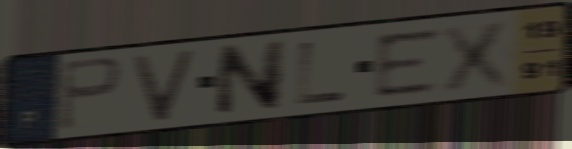E: (372, 25, 443, 101)
L: (292, 38, 351, 108)
N: (212, 37, 290, 120)
P: (54, 54, 127, 134)
V: (129, 46, 200, 125)
X: (437, 15, 521, 95)
